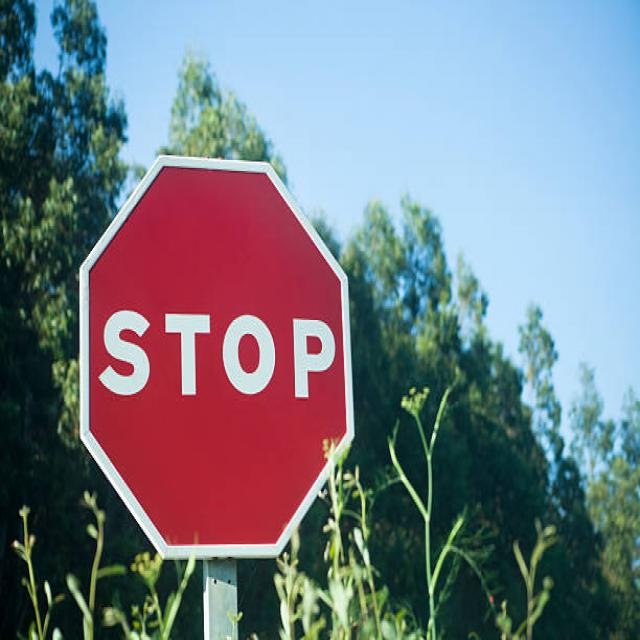stop: (70, 152, 361, 561)
